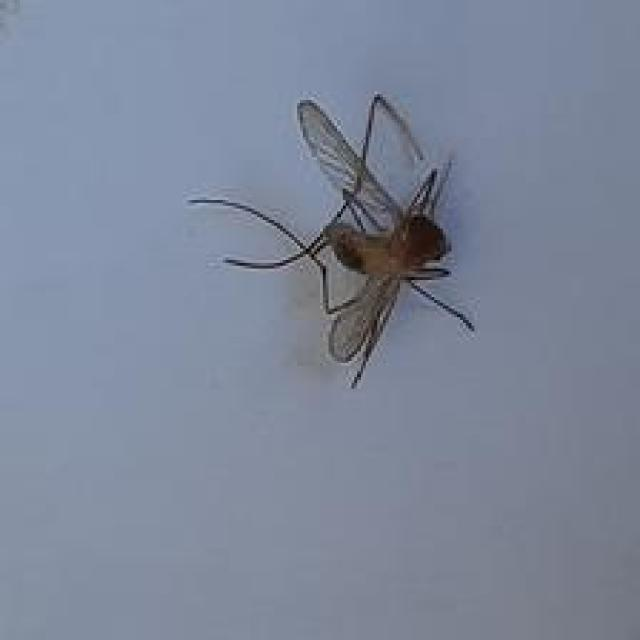Culex: (186, 90, 477, 390)
